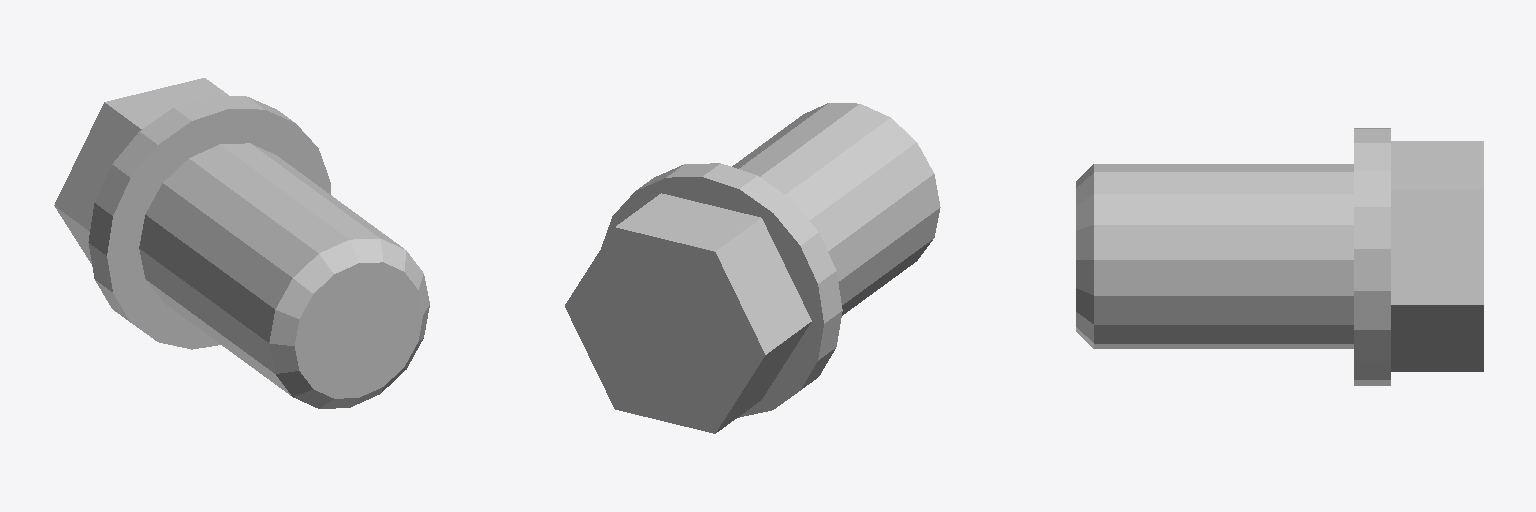
Rendered from Болт крепления кронштейна навесных агрегатов.obj.
The picture shows the model from 3 angles: view 1: azimuth 30°, elevation 25°; view 2: azimuth 150°, elevation 25°; view 3: azimuth 270°, elevation 25°; orthographic projection.
Visible parts, largest first — view 1: Болт_крепления_кронштейна_навесны; view 2: Болт_крепления_кронштейна_навесны; view 3: Болт_крепления_кронштейна_навесны.
Part boxes in pixels (left/top/right/bottom): Болт_крепления_кронштейна_навесны: left=54, top=78, right=429, bottom=408; Болт_крепления_кронштейна_навесны: left=565, top=103, right=940, bottom=433; Болт_крепления_кронштейна_навесны: left=1076, top=128, right=1483, bottom=385.
Bounding box in the file's own units: 13.9 × 13.95 × 22.